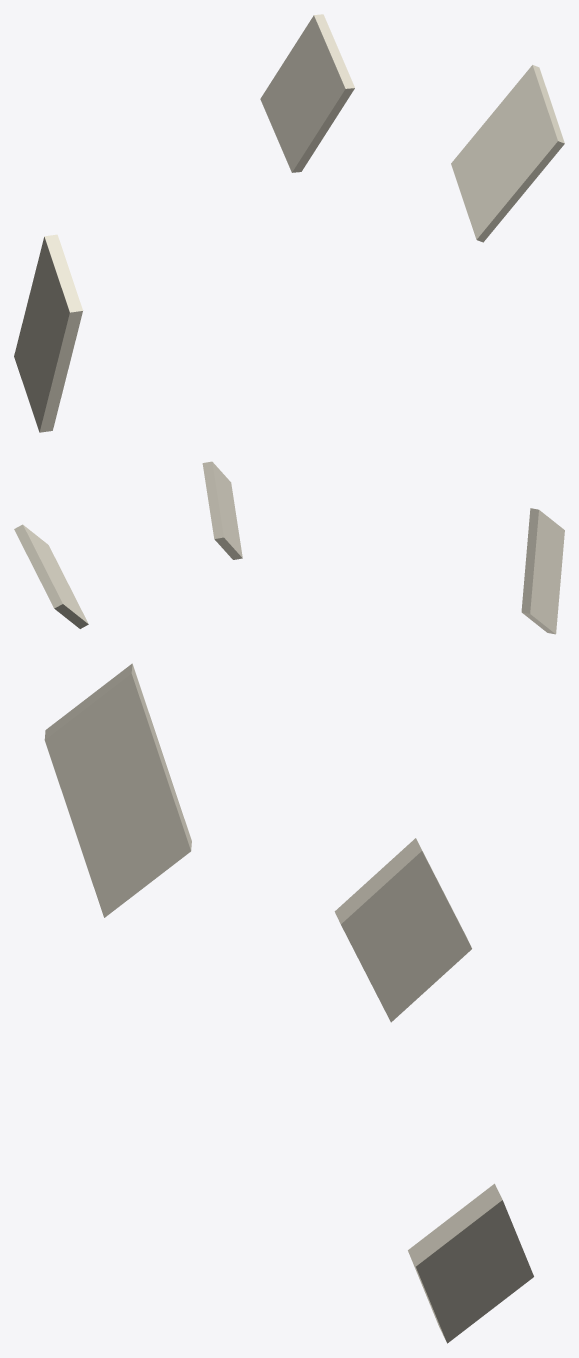
3 renders of one model, top to bottom at view 1: azimuth 30°, elevation 25°; view 2: azimuth 150°, elevation 25°; view 3: azimuth 270°, elevation 25°, orthographic. The views are drawn at different scales.
Parts seen in each view (by area): view 1: ZA_5b579ff550be80ce; view 2: ZA_5b579ff550be80ce; view 3: ZA_5b579ff550be80ce.
Boxes of the visible parts, box(x1,y1,x2,y2) form: ZA_5b579ff550be80ce: box(14, 14, 564, 432); ZA_5b579ff550be80ce: box(14, 461, 564, 634); ZA_5b579ff550be80ce: box(44, 663, 533, 1343).
Bounding box in the file's own units: 0.0248 × 0.0103 × 0.0119.
